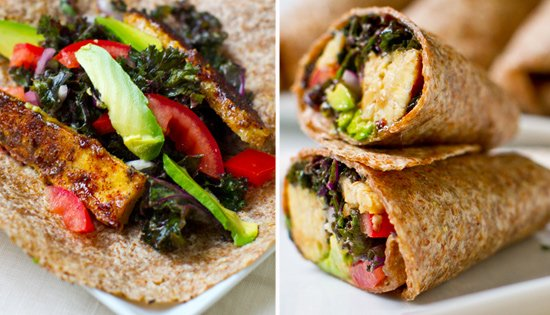slice of bread: (1, 190, 273, 315), (381, 171, 550, 251), (420, 37, 513, 142)
